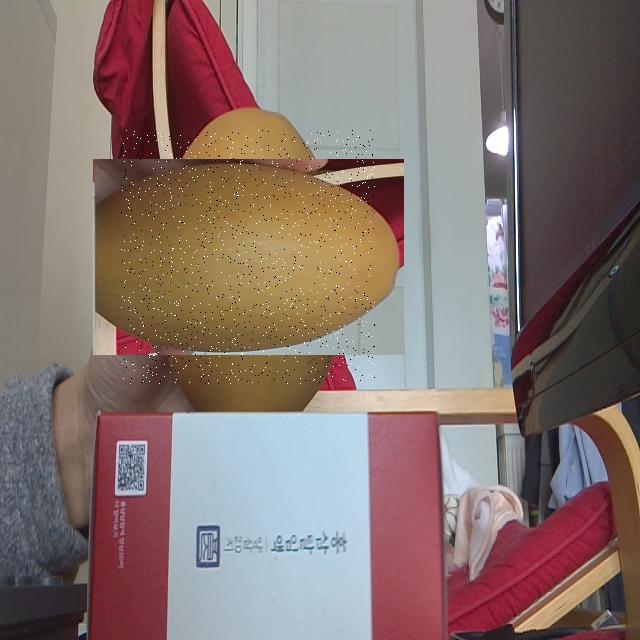pear: (121, 130, 375, 384)
